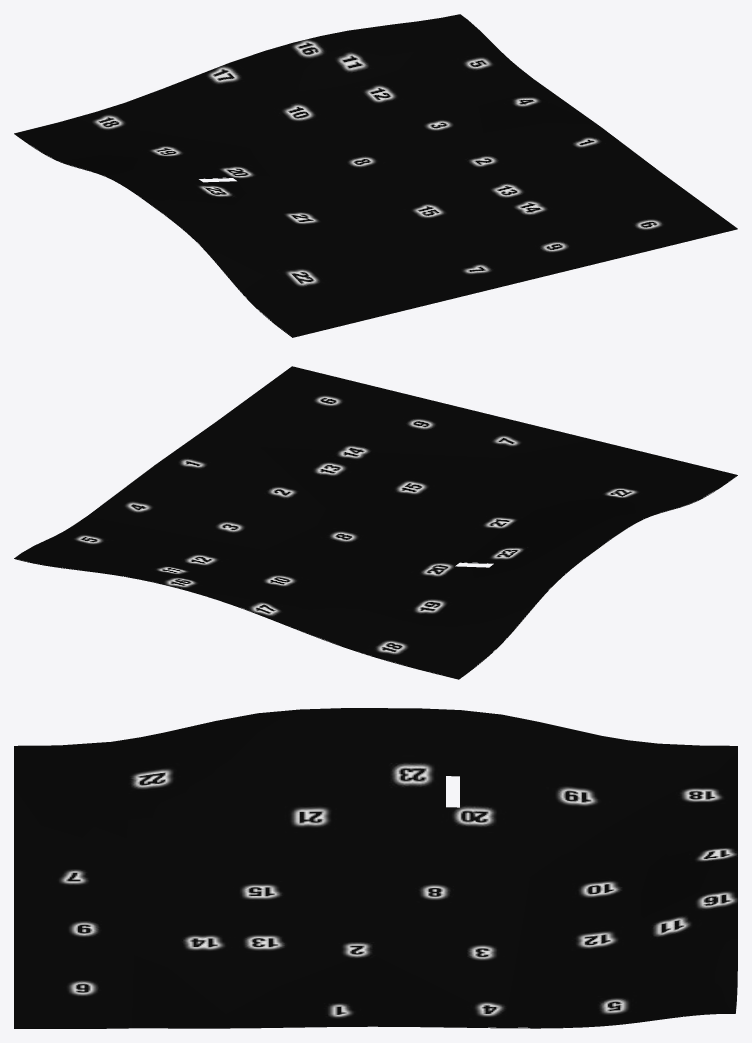
3 renders of one model, top to bottom at view 1: azimuth 30°, elevation 25°; view 2: azimuth 150°, elevation 25°; view 3: azimuth 270°, elevation 25°, orthographic. The views are drawn at different scales.
Visible parts, largest first — view 1: INT; view 2: INT; view 3: INT.
Boxes of the visible parts, <box> form: INT: <box>14,14,737,337</box>; INT: <box>14,366,737,679</box>; INT: <box>14,708,737,1028</box>.
Bounding box in the file's own units: 95.6 × 6.08 × 104.
1 material, 1 textured.
